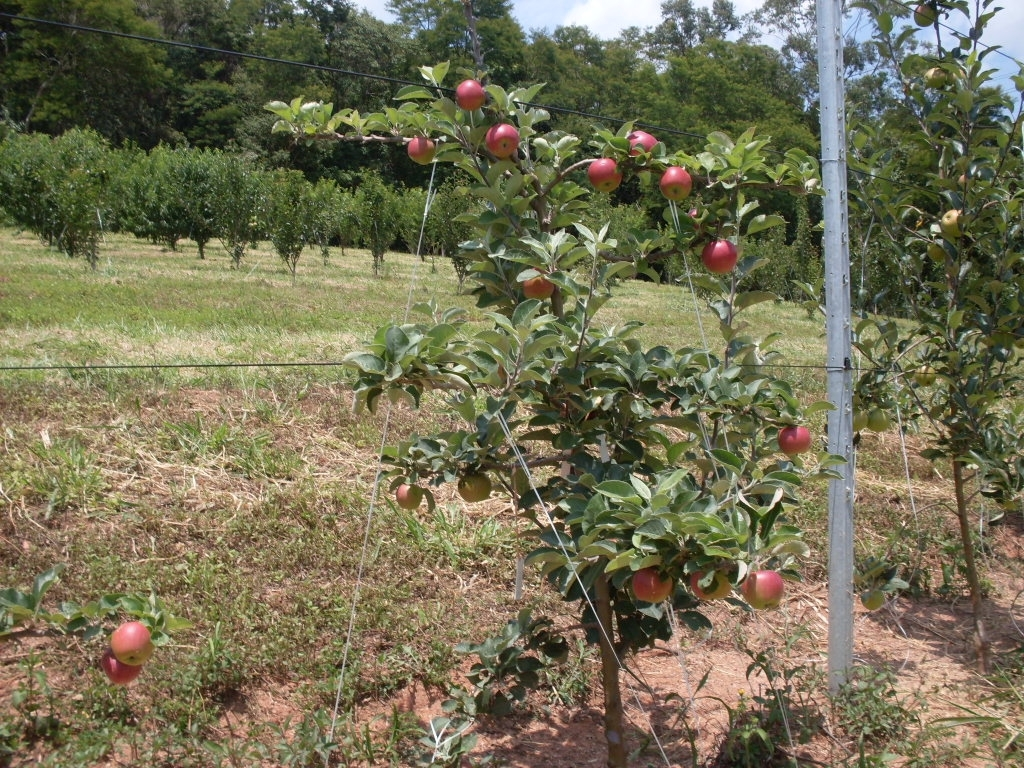Apple: (108, 622, 152, 666), (96, 648, 145, 683), (743, 570, 784, 610), (629, 565, 675, 600), (691, 567, 732, 600), (588, 154, 620, 195), (702, 239, 737, 274), (485, 121, 517, 157), (455, 74, 485, 110), (522, 267, 554, 300), (659, 167, 691, 200), (455, 476, 490, 503), (778, 424, 810, 452), (625, 129, 657, 156), (408, 136, 435, 164), (940, 207, 963, 238), (396, 481, 419, 508), (913, 363, 938, 386), (913, 3, 935, 27), (860, 590, 885, 609), (869, 408, 890, 430), (851, 406, 869, 430), (922, 68, 947, 85), (929, 242, 947, 258), (688, 206, 700, 228)
